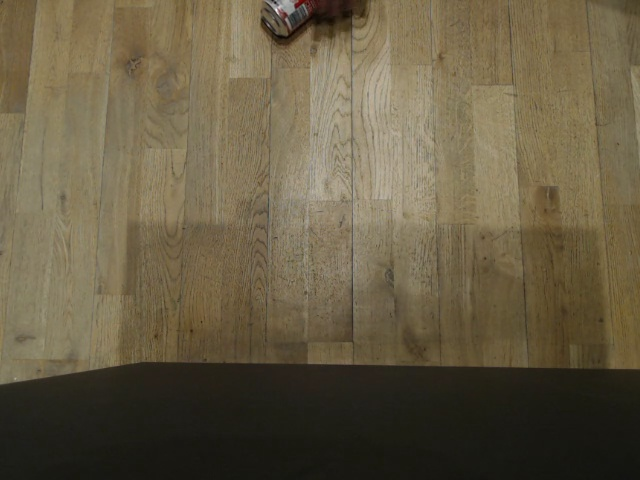cola: (256, 0, 304, 34)
